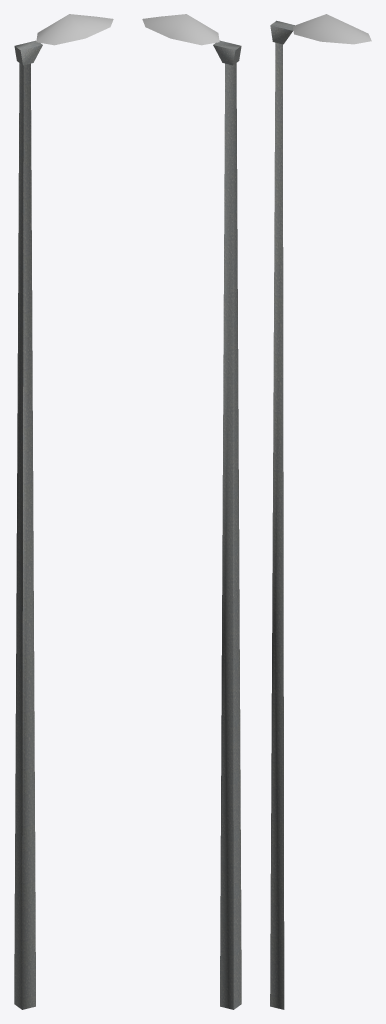
The model's file is Light_Sample_LOD2.gltf.
3 renders of one model, left to right at view 1: azimuth 30°, elevation 25°; view 2: azimuth 150°, elevation 25°; view 3: azimuth 330°, elevation 25°, orthographic. The views are drawn at different scales.
Parts seen in each view (by area): view 1: Light_Sample_LOD2; view 2: Light_Sample_LOD2; view 3: Light_Sample_LOD2.
Boxes of the visible parts, box(x1,y1,x2,y2) form: Light_Sample_LOD2: box(14, 14, 113, 1009); Light_Sample_LOD2: box(142, 14, 241, 1009); Light_Sample_LOD2: box(270, 14, 371, 1009).
Bounding box in the file's own units: 1.27 × 12.4 × 0.5028.
